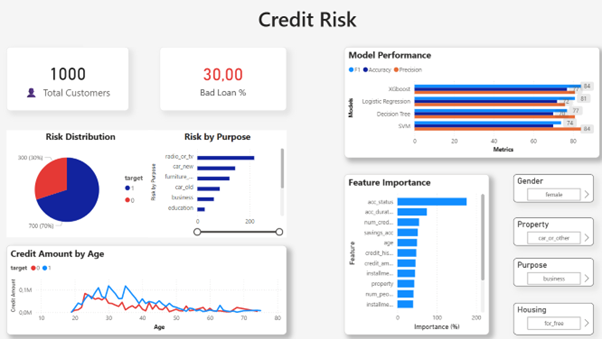

Layout of this report page (visuals, bound fields, positions):
{"tool":"powerbi","page":{"name":"Page 1","canvas":[1280,720],"ordinal":0},"visuals":[{"type":"card","fields":{"Values":["credit_risk_data.👤  Total Customers"]},"box":[15.1,103.1,257.2,134.4],"z":0},{"type":"pieChart","title":"Risk Distribution","fields":{"Category":["credit_risk_data.target"],"Y":["credit_risk_data.👤  Total Customers"]},"box":[15.1,279.3,311.7,226],"z":0,"group":"g1"},{"type":"card","fields":{"Values":["credit_risk_data.Bad Loan %"]},"box":[338.3,103.1,266.5,134.4],"z":1000},{"type":"clusteredBarChart","title":"Risk by Purpose","fields":{"Series":["credit_risk_data.target"],"Category":["credit_risk_data.purpose"],"Y":["Sum(credit_risk_data.target)"]},"box":[314,279.7,290.8,226],"z":1000,"group":"g1"},{"type":"textbox","box":[177.3,9.3,924.7,93.9],"z":2000},{"type":"group","id":"g1","title":"Group 1","box":[15.1,279.3,589.8,226],"z":3000},{"type":"lineChart","title":"Credit Amount by Age","fields":{"Category":["credit_risk_data.age"],"Y":["Sum(credit_risk_data.credit_amount)"],"Series":["credit_risk_data.target"]},"box":[16.2,521.4,589.8,188.9],"z":4000},{"type":"clusteredBarChart","title":"Model Performance","fields":{"Category":["Model_Performance.Model"],"Y":["Sum(Model_Performance.F1)","Sum(Model_Performance.Accuracy)","Sum(Model_Performance.Precision)"]},"box":[726.5,103.1,537.7,234.1],"z":5000},{"type":"clusteredBarChart","title":"Feature Importance","fields":{"Y":["Sum(Table.Importance (%))"],"Category":["Table.Feature"]},"box":[726.5,372,304.7,338.3],"z":6000},{"type":"slicer","title":"Gender","fields":{"Values":["credit_risk_data.gender"]},"box":[1083.4,372,169.2,59.1],"z":7000},{"type":"slicer","title":"Property","fields":{"Values":["credit_risk_data.property"]},"box":[1083.4,462.3,169.2,59.1],"z":8000},{"type":"slicer","title":"Purpose","fields":{"Values":["credit_risk_data.purpose"]},"box":[1083.4,549.2,169.2,59.1],"z":9000},{"type":"slicer","title":"Housing","fields":{"Values":["credit_risk_data.housing"]},"box":[1083.4,643.1,169.2,67.2],"z":10000}]}

Visuals, with their boxes in screenshot pixels (x1, y1, x2, y2), scaled from the page's 1280x720 canvas onto the 602x339 screenshot:
card - credit_risk_data.👤  Total Customers: (left=7, top=49, right=128, bottom=112)
"Risk Distribution" pieChart: (left=7, top=132, right=154, bottom=238)
card - credit_risk_data.Bad Loan %: (left=159, top=49, right=284, bottom=112)
"Risk by Purpose" clusteredBarChart: (left=148, top=132, right=284, bottom=238)
textbox: (left=83, top=4, right=518, bottom=49)
"Group 1" group: (left=7, top=132, right=284, bottom=238)
"Credit Amount by Age" lineChart: (left=8, top=245, right=285, bottom=334)
"Model Performance" clusteredBarChart: (left=342, top=49, right=595, bottom=159)
"Feature Importance" clusteredBarChart: (left=342, top=175, right=485, bottom=334)
"Gender" slicer: (left=510, top=175, right=589, bottom=203)
"Property" slicer: (left=510, top=218, right=589, bottom=245)
"Purpose" slicer: (left=510, top=259, right=589, bottom=286)
"Housing" slicer: (left=510, top=303, right=589, bottom=334)
